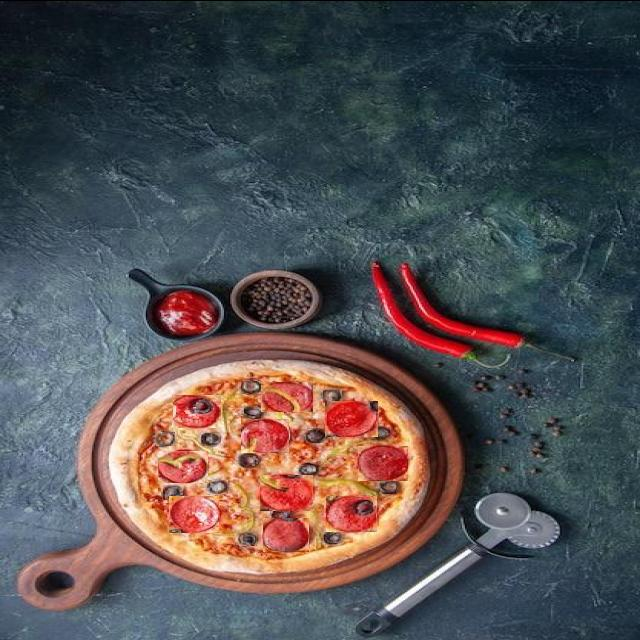olive: (182, 398, 204, 412), (238, 452, 260, 466), (163, 484, 183, 499), (207, 479, 228, 493), (243, 405, 264, 419), (271, 507, 293, 520), (330, 499, 349, 514), (306, 428, 326, 442), (370, 425, 390, 439), (241, 380, 262, 393), (156, 431, 175, 445), (300, 462, 318, 476), (201, 432, 220, 445), (323, 389, 342, 402), (239, 532, 257, 545), (380, 480, 397, 493), (323, 532, 342, 542)
pepperoni: (260, 474, 313, 510), (325, 400, 378, 436), (169, 495, 219, 532), (326, 495, 377, 531), (358, 445, 408, 480), (242, 418, 290, 452), (158, 450, 208, 482), (173, 394, 221, 427), (263, 517, 309, 551), (262, 381, 314, 411)
pizza: (108, 358, 430, 574)
